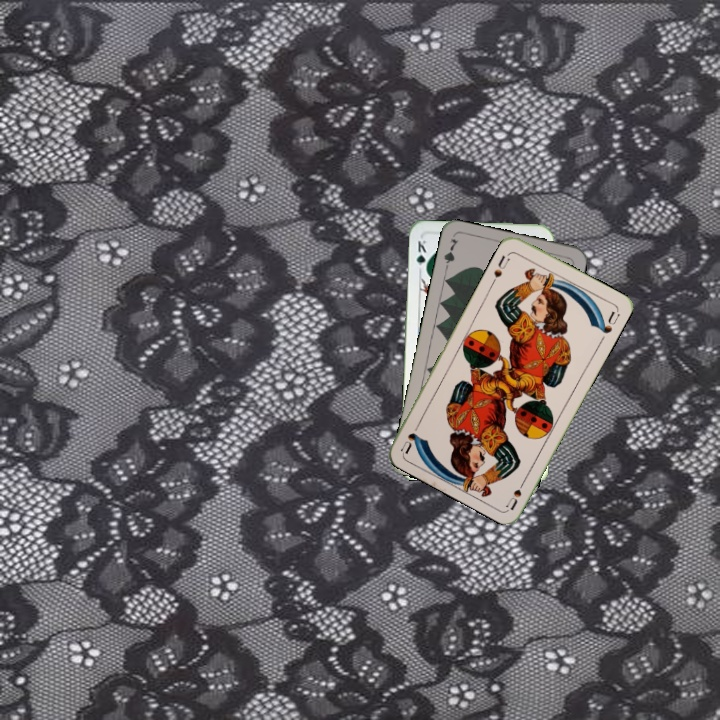G7: (440, 235, 461, 274)
GK: (413, 236, 430, 275)
SU: (503, 473, 530, 511), (488, 249, 513, 286)
